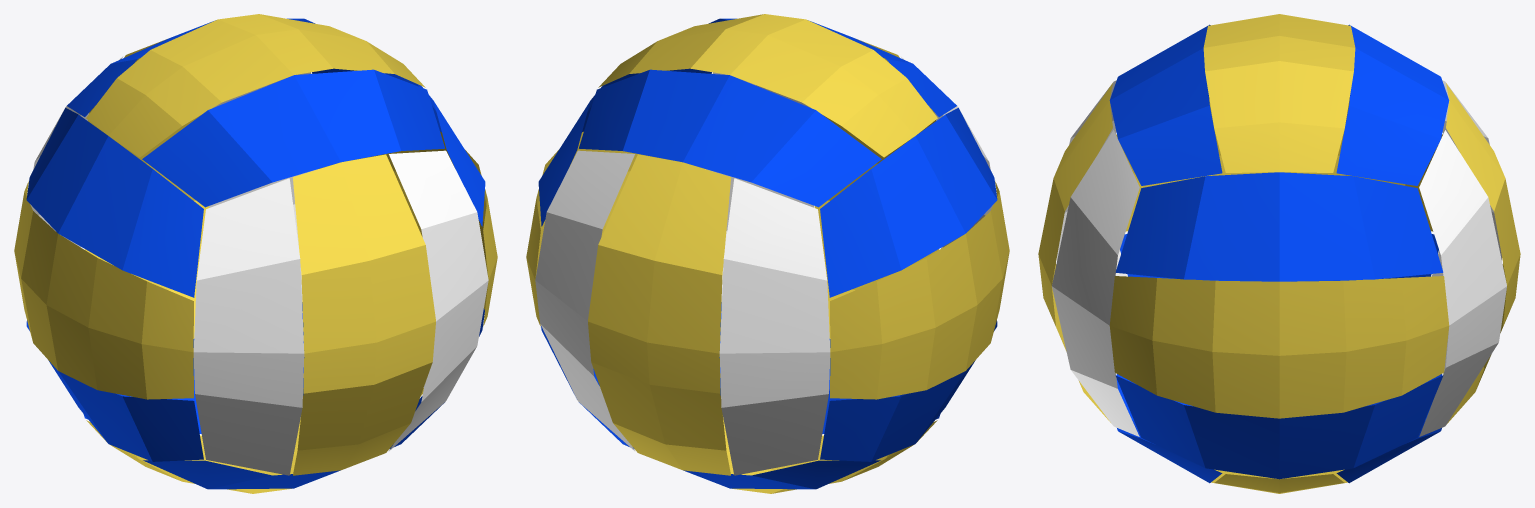
File: Volleyball.FBX
3 views of the same model, side by side, from view 1: azimuth 30°, elevation 25°; view 2: azimuth 150°, elevation 25°; view 3: azimuth 270°, elevation 25° (orthographic).
Visible parts, largest first — view 1: Box01; view 2: Box01; view 3: Box01.
Boxes of the visible parts, x1=… form: Box01: x1=14, y1=14, x2=497, y2=493; Box01: x1=526, y1=14, x2=1009, y2=493; Box01: x1=1038, y1=14, x2=1520, y2=493.
Size of the model in its own units: 183 by 182 by 183.
